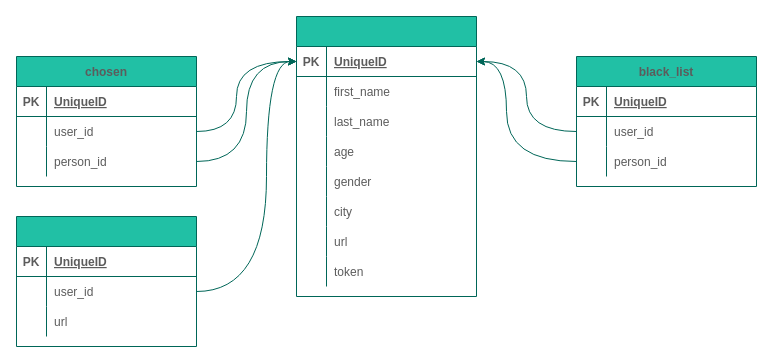
Some shapes in this 773 by 363 pixel diagram are drawn without their labels. Here are the shapes that lost their labels. From the top down, the box of each, then its label:
(296, 16, 476, 296): user
(16, 216, 196, 346): pop_photo
